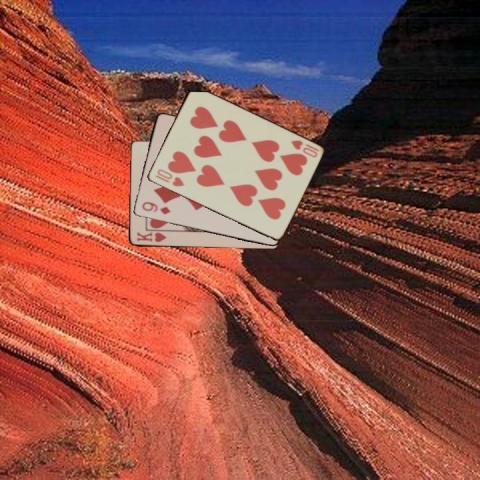10h: (287, 137, 321, 159), (152, 166, 185, 188)
9d: (139, 199, 172, 216)
Kh: (134, 230, 167, 244)
